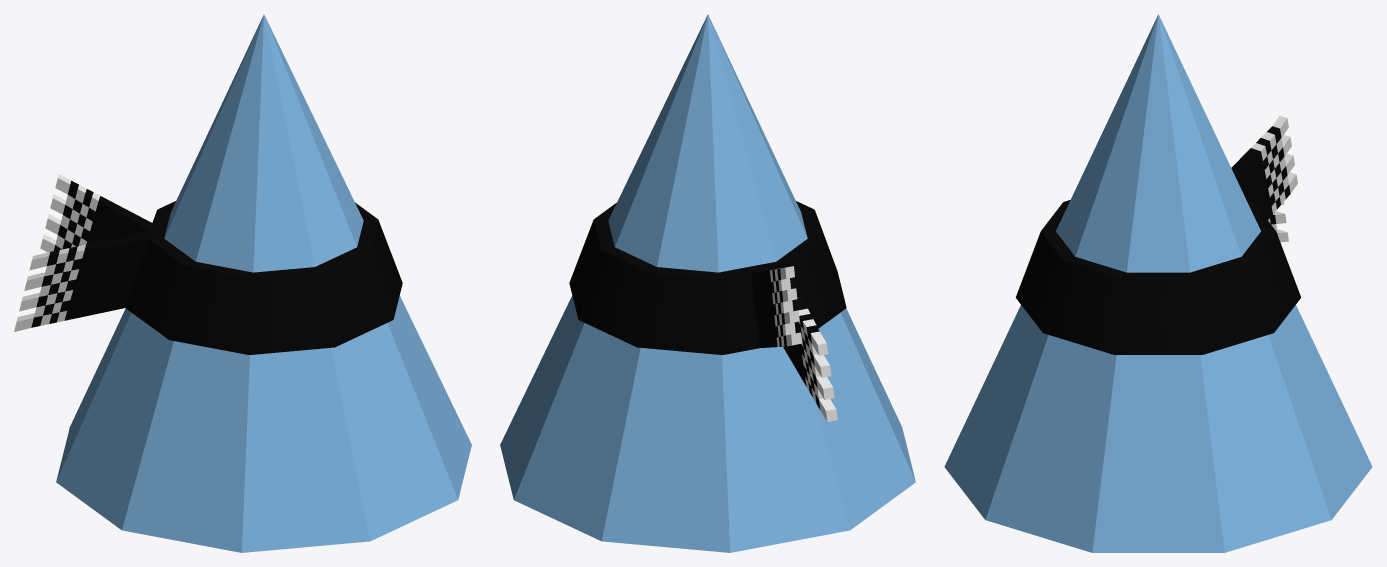
Rendered from Scarf_Villager.fbx.
3 renders of one model, left to right at view 1: azimuth 30°, elevation 25°; view 2: azimuth 150°, elevation 25°; view 3: azimuth 270°, elevation 25°, orthographic.
Parts seen in each view (by area): view 1: Scarf_Villager, Scarf6; view 2: Scarf_Villager, Scarf6; view 3: Scarf_Villager, Scarf6.
Part boxes in pixels (x1,y1,x2,y2): Scarf_Villager: [56, 14, 471, 552]; Scarf6: [14, 174, 402, 354]; Scarf_Villager: [500, 14, 915, 552]; Scarf6: [569, 201, 846, 421]; Scarf_Villager: [944, 14, 1372, 552]; Scarf6: [1015, 116, 1301, 354].
Size of the model in its own units: 6.05 by 7.12 by 6.1.
